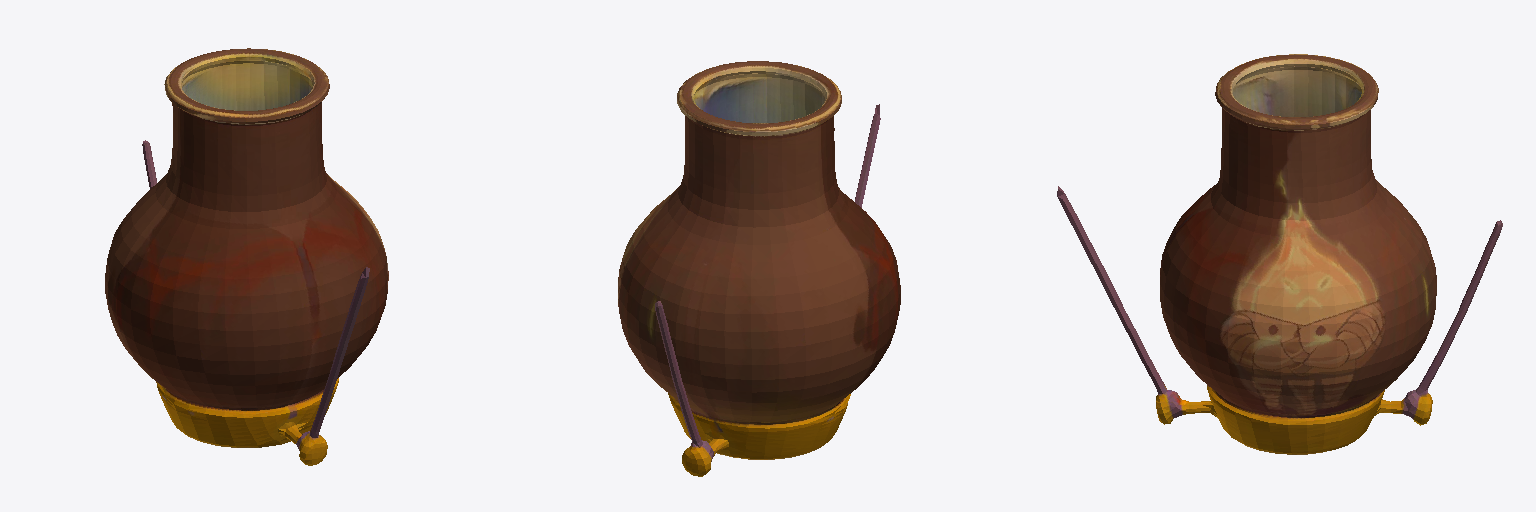
The picture shows the model from 3 angles: view 1: azimuth 30°, elevation 25°; view 2: azimuth 150°, elevation 25°; view 3: azimuth 270°, elevation 25°; orthographic projection.
Visible parts, largest first — view 1: tripo_node_b523a76d_fd2b_4d80_bb88_e261f91b5866; view 2: tripo_node_b523a76d_fd2b_4d80_bb88_e261f91b5866; view 3: tripo_node_b523a76d_fd2b_4d80_bb88_e261f91b5866.
Boxes of the visible parts, <box> form: tripo_node_b523a76d_fd2b_4d80_bb88_e261f91b5866: <box>105,48,388,465</box>; tripo_node_b523a76d_fd2b_4d80_bb88_e261f91b5866: <box>618,61,900,476</box>; tripo_node_b523a76d_fd2b_4d80_bb88_e261f91b5866: <box>1057,54,1502,454</box>.
Size of the model in its own units: 0.6023 by 0.7906 by 0.945.
Materials: 1 (1 with a texture image).